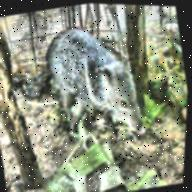boar: (20, 7, 151, 155)
